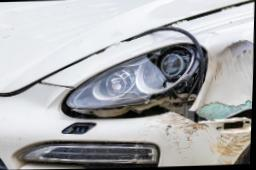Bumper: (71, 113, 252, 169)
Fender: (174, 1, 254, 119)
Light: (64, 43, 209, 119)
